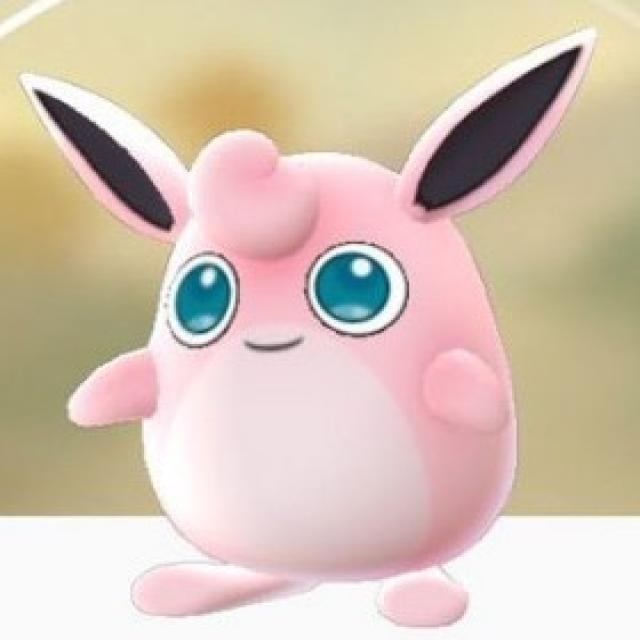Wigglytuff: (93, 128, 523, 627)
